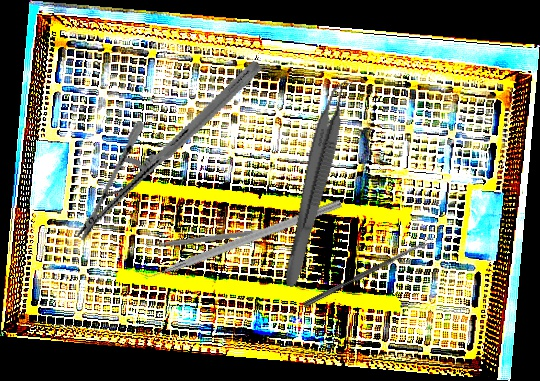Chopper: (133, 187, 343, 286)
Needle Holder: (73, 25, 264, 277)
Spatula Surgical: (138, 219, 285, 253)
Surgical Spoon: (302, 237, 434, 309)
Tissue Forceps: (281, 76, 354, 291)
